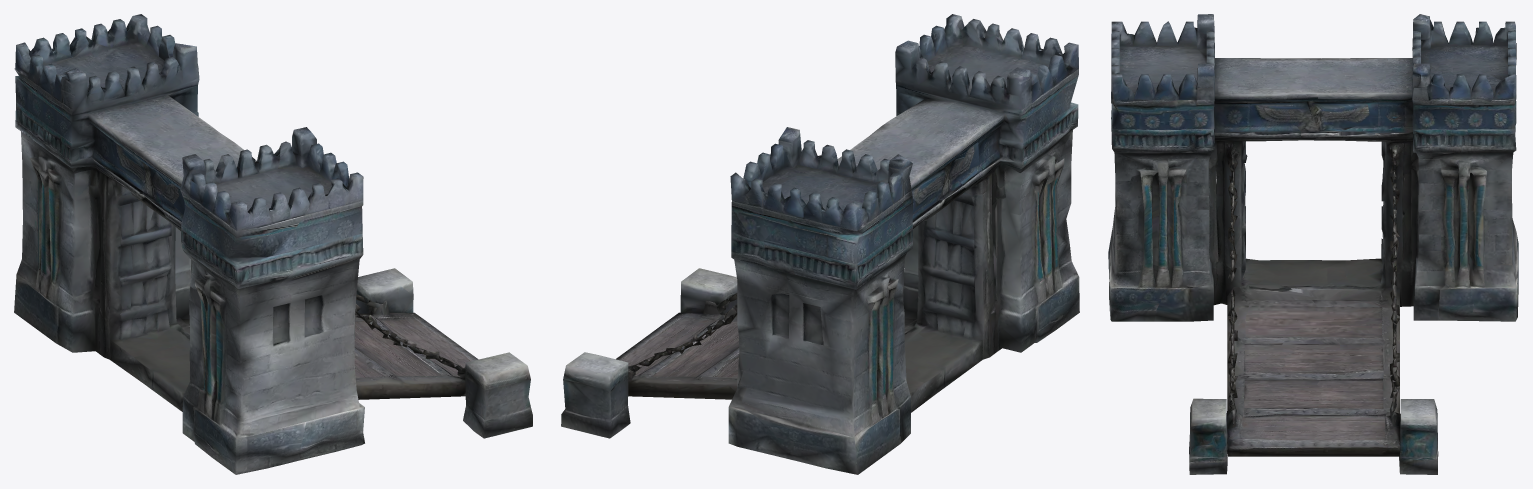
File: bridge_moat.glb
The picture shows the model from 3 angles, left to right: view 1: azimuth 30°, elevation 25°; view 2: azimuth 150°, elevation 25°; view 3: azimuth 270°, elevation 25°; orthographic projection. The views are drawn at different scales.
Parts seen in each view (by area): view 1: tripo_node_0e6aeee9-20f1-4aa3-823f-bf31dde70bb9; view 2: tripo_node_0e6aeee9-20f1-4aa3-823f-bf31dde70bb9; view 3: tripo_node_0e6aeee9-20f1-4aa3-823f-bf31dde70bb9.
Part boxes in pixels (<box>): tripo_node_0e6aeee9-20f1-4aa3-823f-bf31dde70bb9: <box>14,14,532,474</box>; tripo_node_0e6aeee9-20f1-4aa3-823f-bf31dde70bb9: <box>561,14,1079,474</box>; tripo_node_0e6aeee9-20f1-4aa3-823f-bf31dde70bb9: <box>1108,14,1518,474</box>.
Bounding box in the file's own units: 0.8561 × 0.8221 × 0.982.
Materials: 1 (1 with a texture image).
